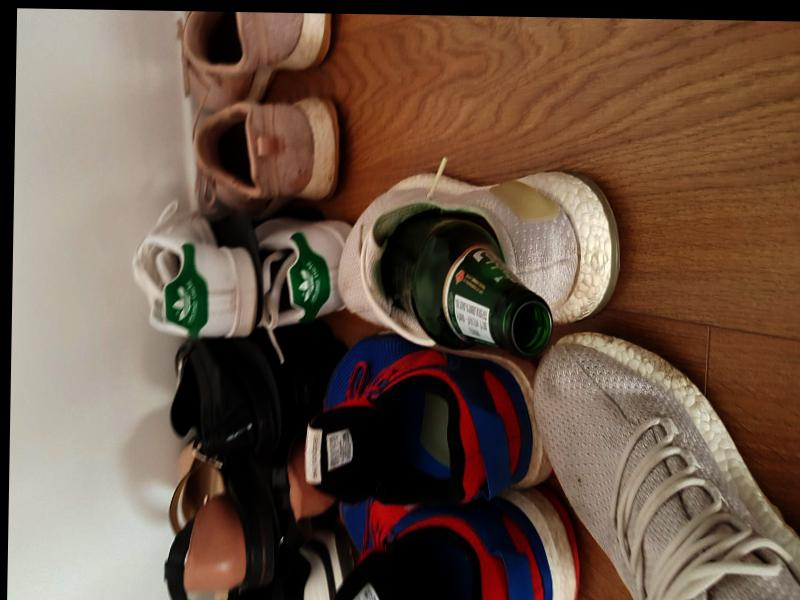Beer: (382, 214, 553, 355)
